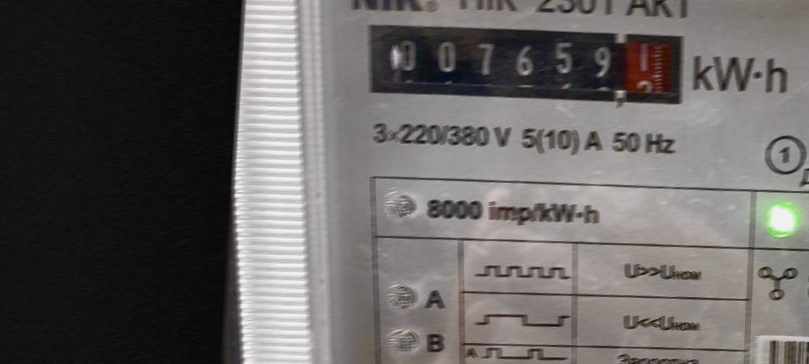0: (433, 39, 458, 77), (394, 37, 417, 77)
1: (633, 40, 651, 77)
5: (551, 40, 573, 78)
6: (511, 43, 535, 80)
7: (471, 40, 494, 80)
9: (589, 44, 612, 83)
screen: (354, 13, 693, 121)
